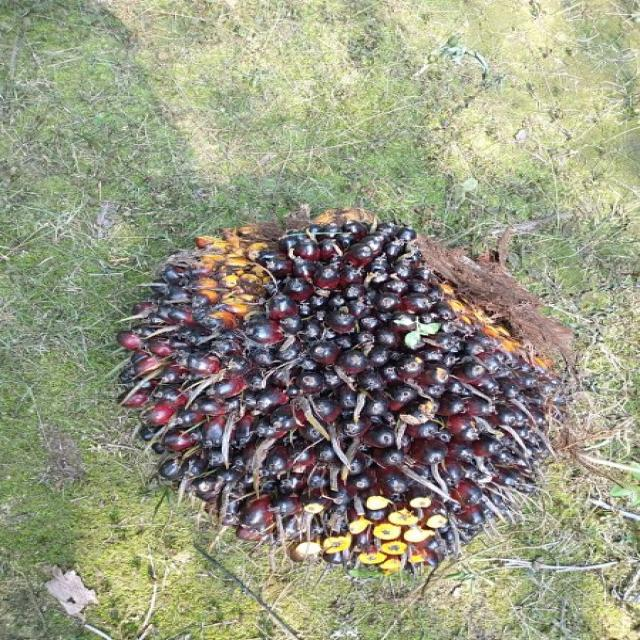fraksi 00: (61, 132, 612, 596)
